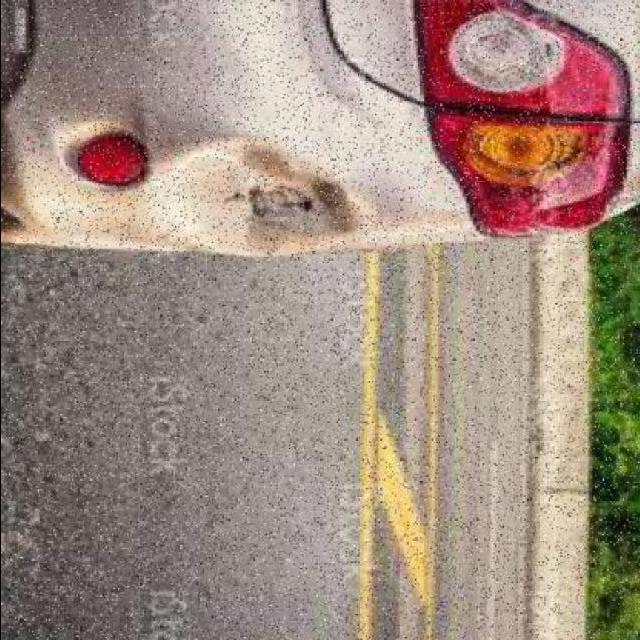rear-bumper-dent: (17, 0, 406, 266)
